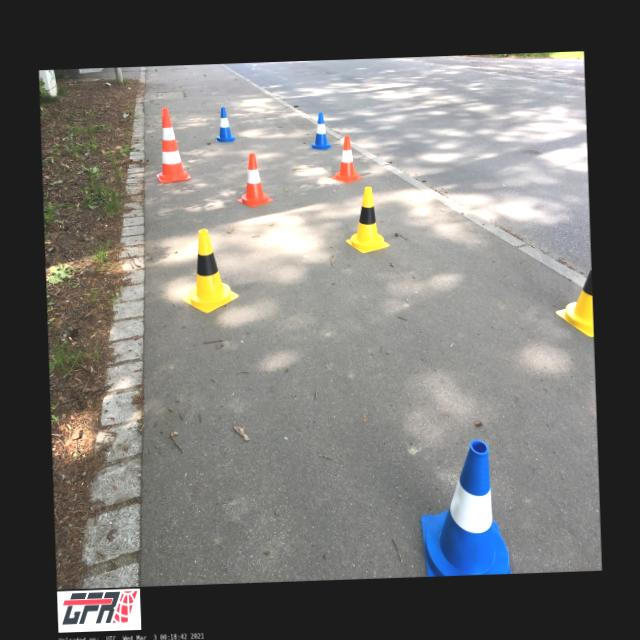blue_cone: (418, 439, 511, 576), (308, 111, 332, 150), (214, 106, 235, 142)
large_orange_cone: (154, 106, 191, 182)
orange_cone: (235, 152, 272, 206), (330, 135, 363, 183)
yellow_cone: (179, 228, 238, 314), (344, 186, 388, 253), (554, 267, 593, 338)
